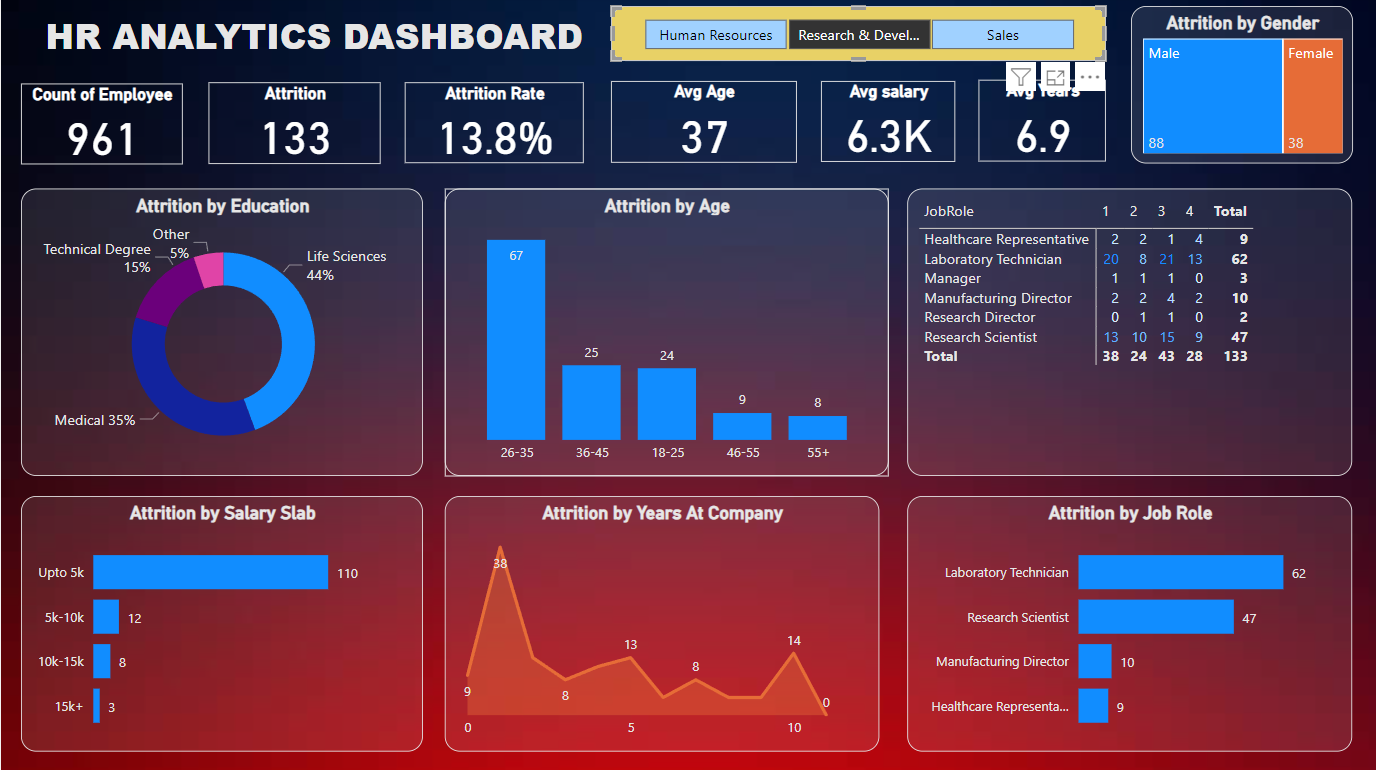

The page's visual inventory and layout, read from the dashboard file:
{"tool":"powerbi","page":{"name":"Page 1","canvas":[1280,720],"ordinal":0},"visuals":[{"type":"card","title":"Count of Employee","fields":{"Values":["CountNonNull(HR_Analytics.EmpID)"]},"box":[18.8,81.2,150,75],"z":0},{"type":"card","title":"Attrition","fields":{"Values":["Sum(HR_Analytics.AttritionCount)"]},"box":[192.5,80,160,76.2],"z":1000},{"type":"card","title":"Avg Age","fields":{"Values":["Avg(HR_Analytics.Age)"]},"box":[567.5,78.8,172.5,76.2],"z":2000},{"type":"card","title":"Attrition Rate","fields":{"Values":["HR_Analytics.AttritionRate"]},"box":[375,80,166.2,75],"z":3000},{"type":"card","title":"Avg salary","fields":{"Values":["Avg(HR_Analytics.MonthlyIncome)"]},"box":[762.5,78.8,125,75],"z":4000},{"type":"card","title":"Avg Years","fields":{"Values":["Avg(HR_Analytics.YearsAtCompany)"]},"box":[908.8,77.5,118.8,76.2],"z":5000},{"type":"donutChart","title":"Attrition by Education","fields":{"Category":["HR_Analytics.EducationField"],"Y":["Sum(HR_Analytics.AttritionCount)"]},"box":[18.8,178.8,373.8,267.5],"z":6000},{"type":"columnChart","title":"Attrition by Age","fields":{"Category":["HR_Analytics.AgeGroup"],"Y":["Sum(HR_Analytics.AttritionCount)"]},"box":[412.5,178.8,412.5,267.5],"z":7000},{"type":"pivotTable","fields":{"Rows":["HR_Analytics.JobRole"],"Columns":["HR_Analytics.JobSatisfaction"],"Values":["Sum(HR_Analytics.AttritionCount)"]},"box":[842.5,178.8,413.8,267.5],"z":8000},{"type":"barChart","title":"Attrition by Job Role","fields":{"Category":["HR_Analytics.JobRole"],"Y":["Sum(HR_Analytics.AttritionCount)"]},"box":[842.5,465,413.8,237.5],"z":9000},{"type":"barChart","title":"Attrition by Salary Slab","fields":{"Category":["HR_Analytics.SalarySlab"],"Y":["Sum(HR_Analytics.AttritionCount)"]},"box":[18.8,465,373.8,237.5],"z":9001},{"type":"areaChart","title":"Attrition by Years At Company","fields":{"Category":["HR_Analytics.YearsAtCompany"],"Y":["Sum(HR_Analytics.AttritionCount)"]},"box":[412.5,465,403.8,237.5],"z":9002},{"type":"treemap","title":"Attrition by Gender","fields":{"Group":["HR_Analytics.Gender"],"Values":["Sum(HR_Analytics.AttritionCount)"]},"box":[1050,8.8,206.2,146.2],"z":9003},{"type":"slicer","fields":{"Values":["HR_Analytics.Department"]},"box":[567.5,8.8,460,51.2],"z":9004},{"type":"textbox","box":[18.8,8.8,576.2,61.2],"z":9005}]}

Visuals, with their boxes in screenshot pixels (x1, y1, x2, y2), scaled from the page's 1280x720 canvas onto the 1376x770 screenshot:
"Count of Employee" card: 20,87,181,167
"Attrition" card: 207,86,379,167
"Avg Age" card: 610,84,796,166
"Attrition Rate" card: 403,86,582,166
"Avg salary" card: 820,84,954,164
"Avg Years" card: 977,83,1105,164
"Attrition by Education" donutChart: 20,191,422,477
"Attrition by Age" columnChart: 443,191,887,477
pivotTable - HR_Analytics.JobRole x HR_Analytics.JobSatisfaction: 906,191,1351,477
"Attrition by Job Role" barChart: 906,497,1351,751
"Attrition by Salary Slab" barChart: 20,497,422,751
"Attrition by Years At Company" areaChart: 443,497,878,751
"Attrition by Gender" treemap: 1129,9,1350,166
slicer - HR_Analytics.Department: 610,9,1105,64
textbox: 20,9,640,75
